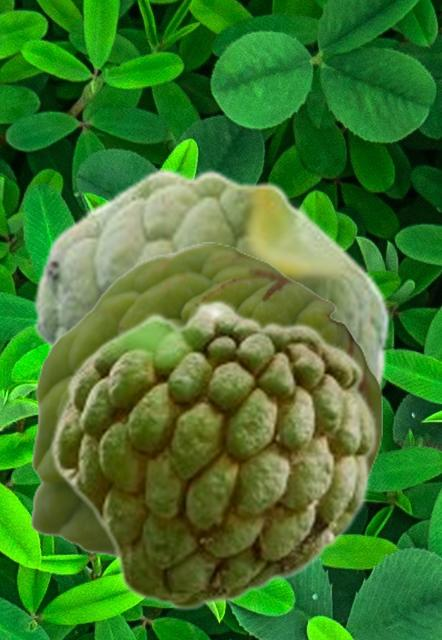atis: (30, 242, 381, 560), (48, 298, 377, 610), (32, 168, 392, 402)
